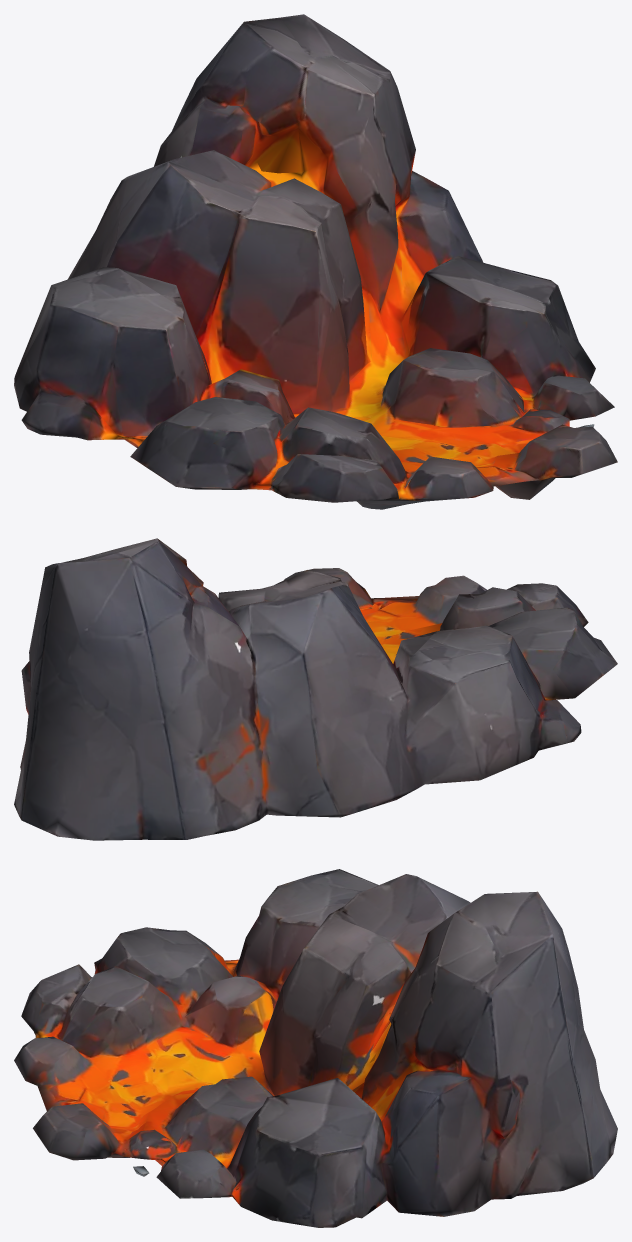
File: dec_lava_rock.glb
3 views of the same model, one above another, from view 1: azimuth 30°, elevation 25°; view 2: azimuth 150°, elevation 25°; view 3: azimuth 270°, elevation 25° (orthographic). The views are drawn at different scales.
Visible parts, largest first — view 1: BakeLow; view 2: BakeLow; view 3: BakeLow.
Part boxes in pixels (box(x1,y1,x2,y2)): BakeLow: box(14, 14, 617, 509); BakeLow: box(14, 538, 617, 840); BakeLow: box(14, 869, 617, 1227).
Size of the model in its own units: 0.9124 by 0.453 by 0.9769.
1 material, 1 textured.
